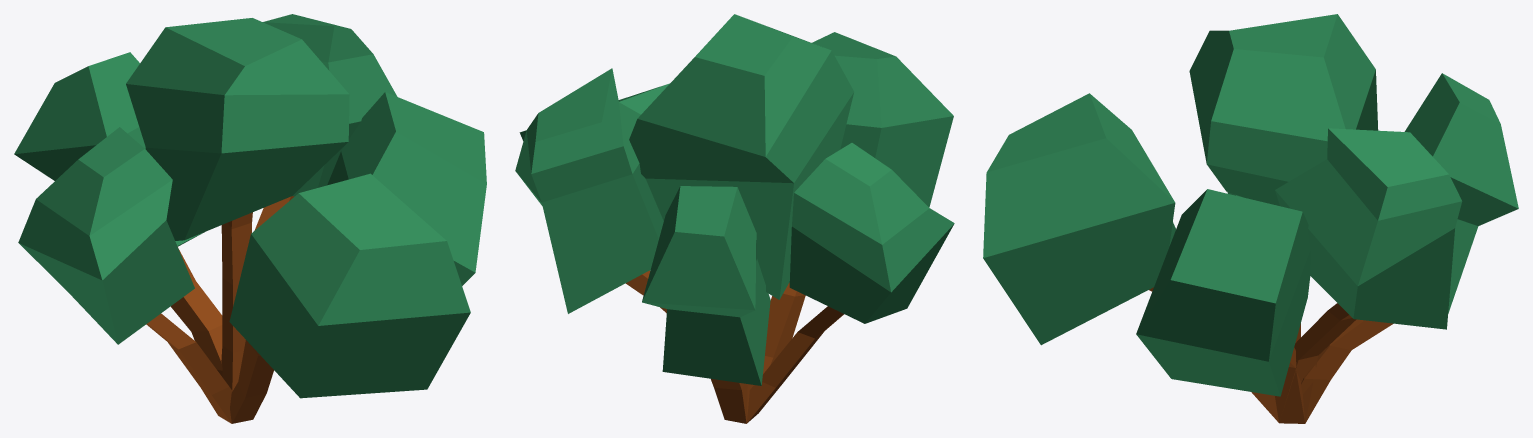
File: bush-2.glb
3 views of the same model, side by side, from view 1: azimuth 30°, elevation 25°; view 2: azimuth 150°, elevation 25°; view 3: azimuth 270°, elevation 25° (orthographic). The views are drawn at different scales.
Visible parts, largest first — view 1: bush-2; view 2: bush-2; view 3: bush-2.
Boxes of the visible parts, x1,y1,x2,y2 form: bush-2: [14, 14, 486, 423]; bush-2: [515, 14, 954, 423]; bush-2: [983, 14, 1518, 423].
Bounding box in the file's own units: 1.17 × 1.02 × 1.28.
